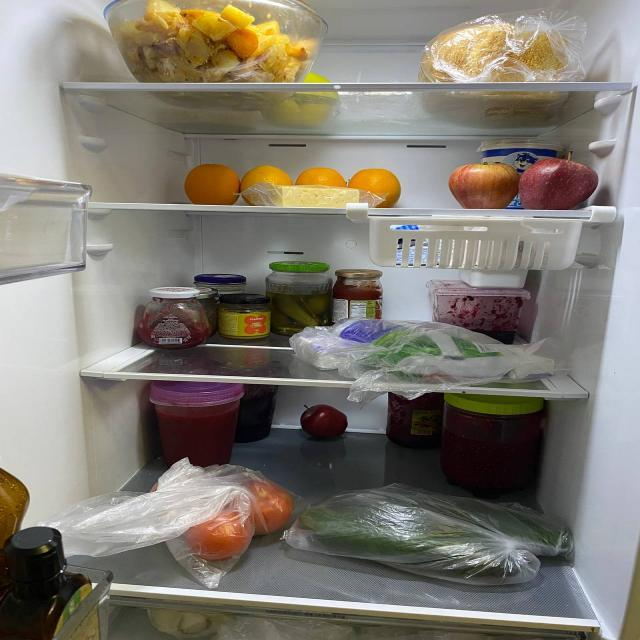Apple: (513, 153, 599, 217), (446, 164, 526, 211), (294, 402, 348, 436)
Orange: (184, 162, 244, 205), (290, 167, 350, 208), (345, 168, 403, 209), (236, 164, 294, 205)
Tomato: (172, 509, 262, 558), (225, 478, 298, 531)
